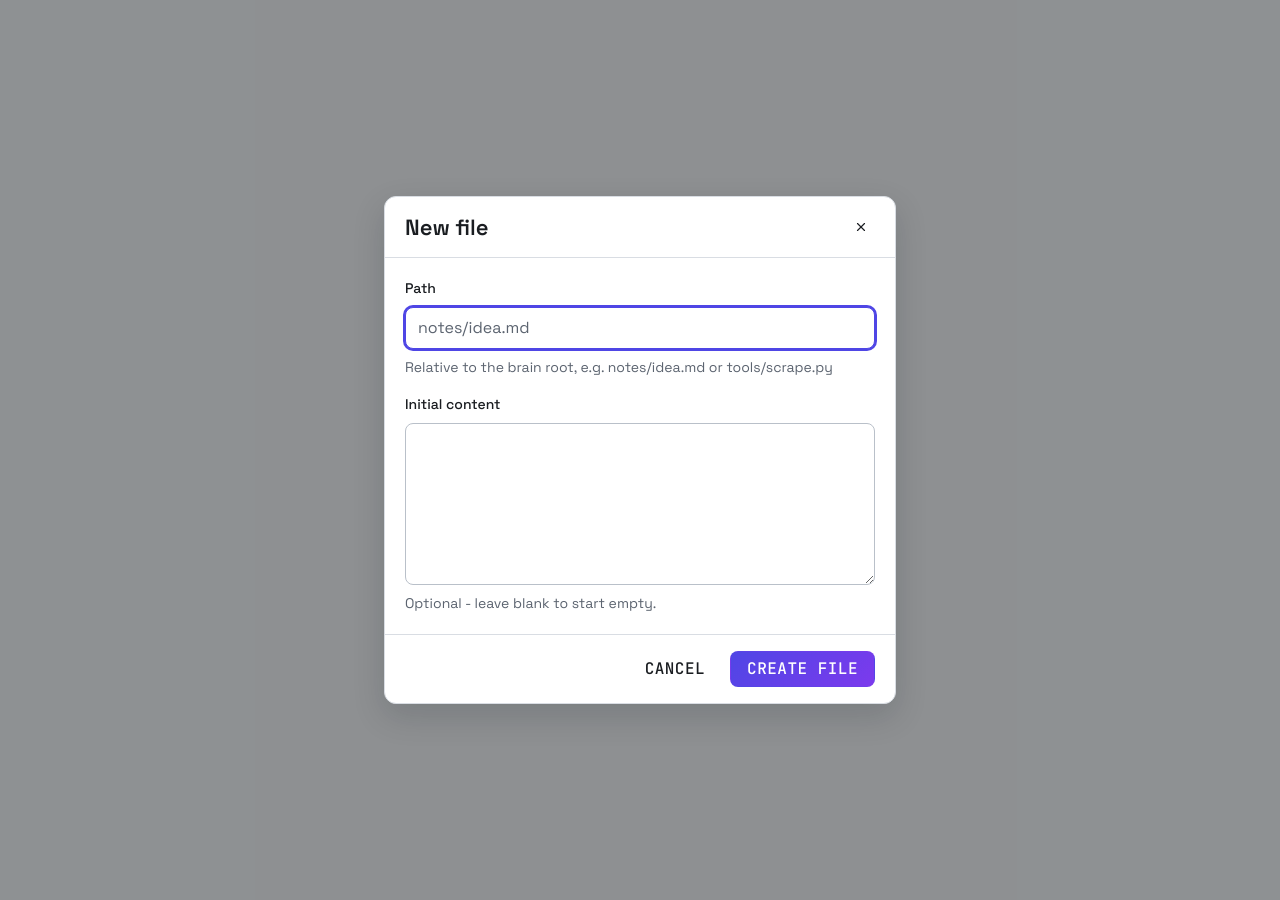
Test: NewFileDialog › rejects a path containing a '..' segment
In the field labelled "Path": (640, 328) [405,307,875,349], type "../outside/escape.md"
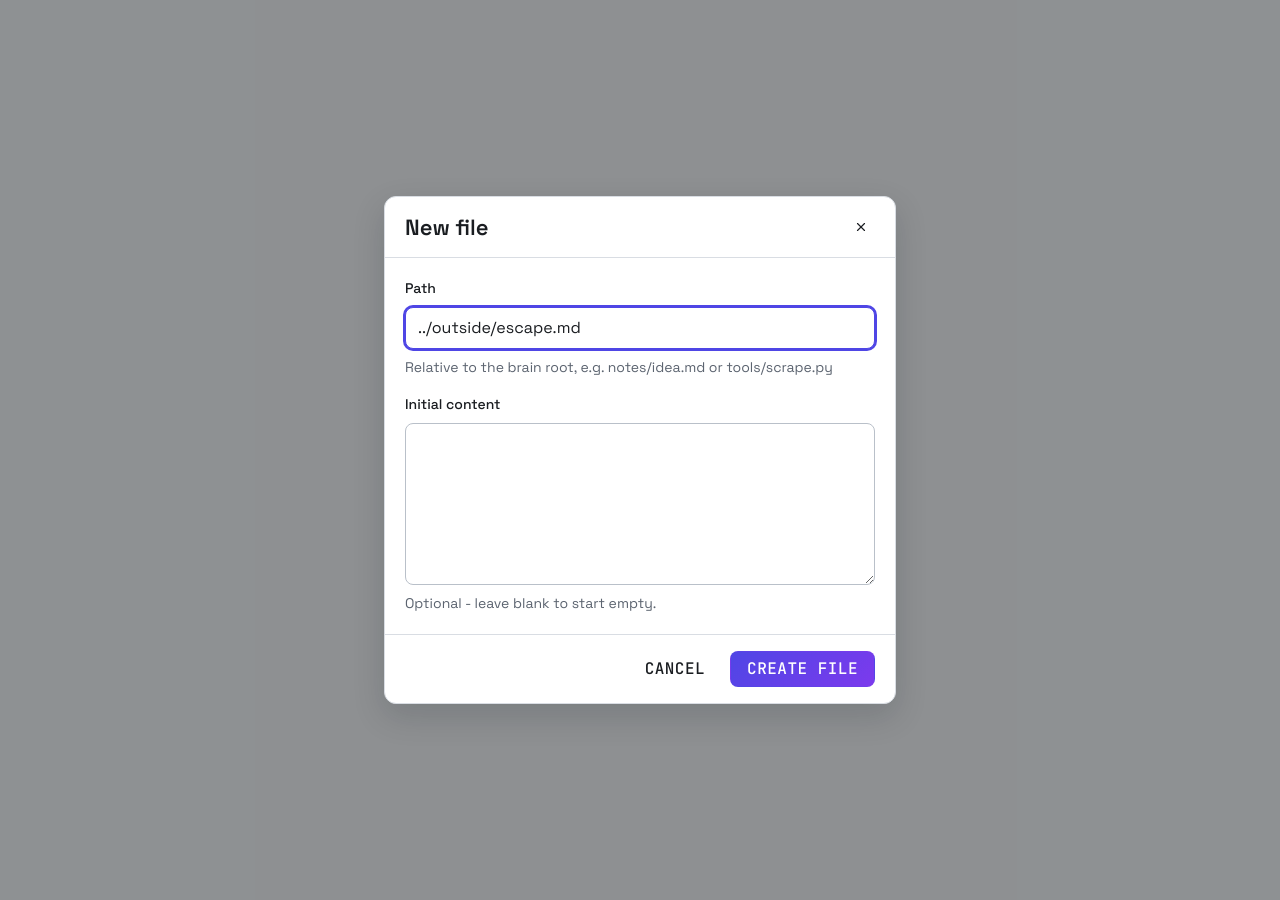
Click the button "Create file": (803, 669) [730,651,875,687]
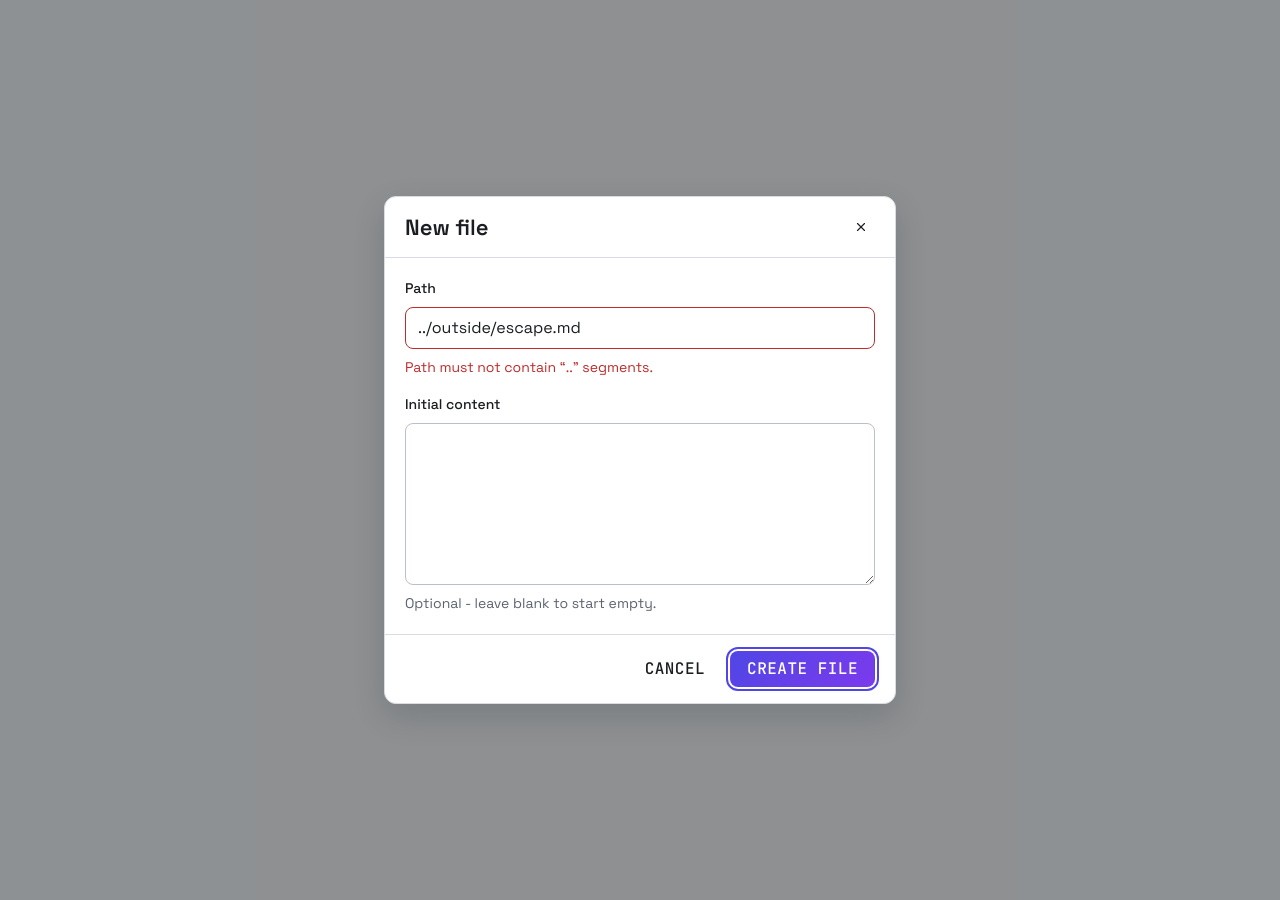
Expected: the text "Path must not contain “..” segments." is shown, [405,358,653,376]
